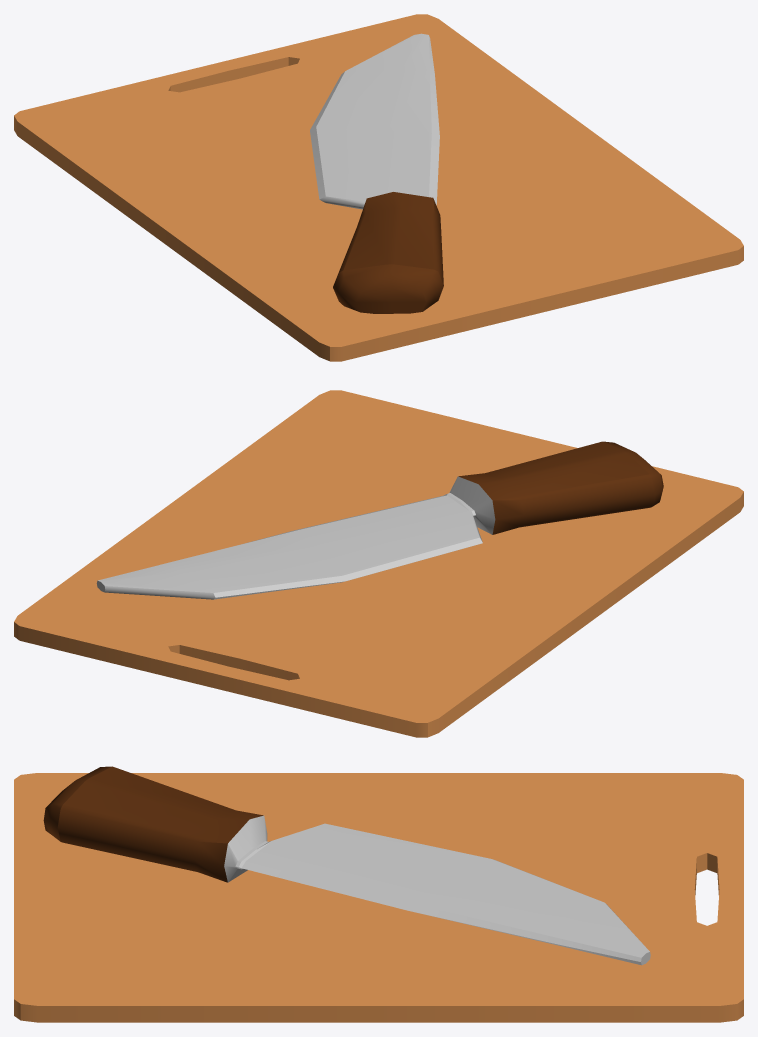
Rendered from cutting_board.fbx.
3 views of the same model, one above another, from view 1: azimuth 30°, elevation 25°; view 2: azimuth 150°, elevation 25°; view 3: azimuth 270°, elevation 25° (orthographic). The views are drawn at different scales.
Parts seen in each view (by area): view 1: CuttingBoard, Knife; view 2: CuttingBoard, Knife; view 3: CuttingBoard, Knife.
Boxes of the visible parts, left/top/right/bottom form: CuttingBoard: left=14, top=14, right=743, bottom=361; Knife: left=310, top=33, right=443, bottom=313; CuttingBoard: left=14, top=390, right=743, bottom=737; Knife: left=96, top=441, right=663, bottom=599; CuttingBoard: left=14, top=773, right=743, bottom=1022; Knife: left=43, top=766, right=650, bottom=965.
Size of the model in its own units: 200 by 25.27 by 265.
